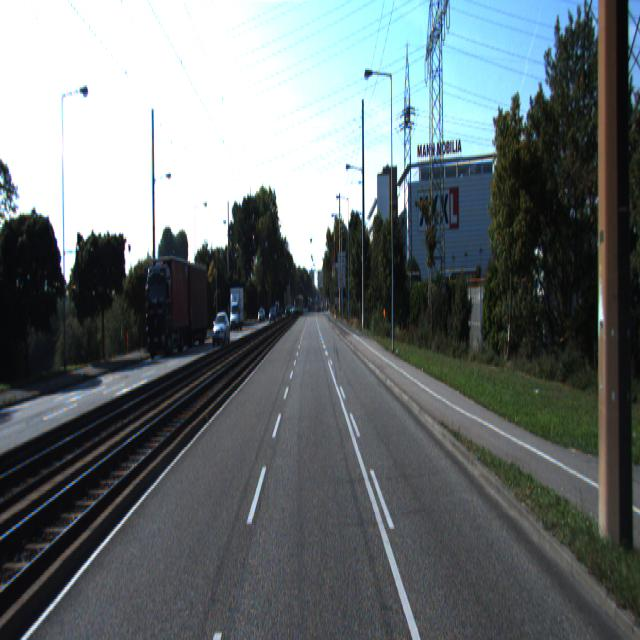Car: (143, 252, 189, 362), (173, 261, 208, 352), (211, 312, 231, 348)
